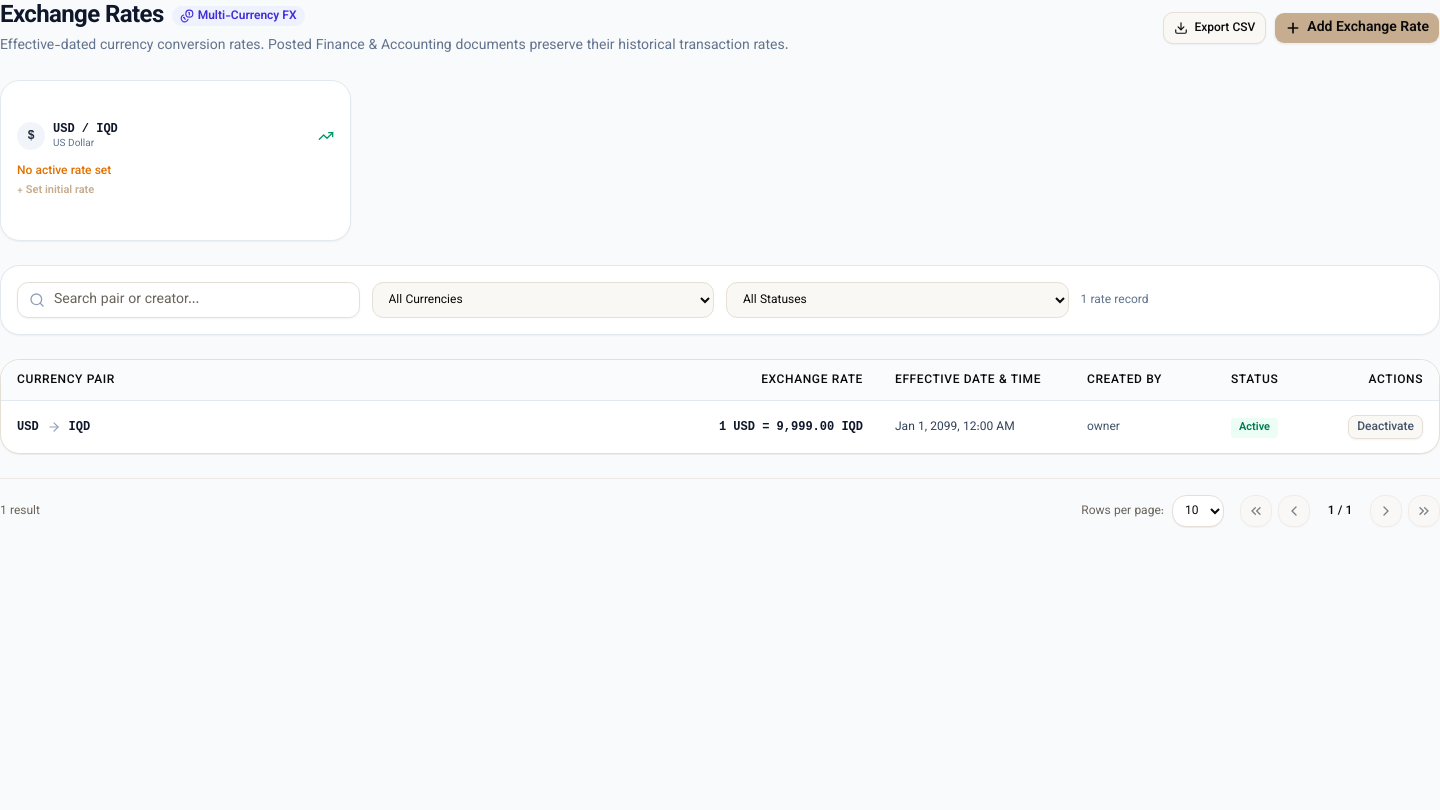
Scenario: exchange-rate management › guides an owner to enter USD per IQD direction without a prefilled real rate
Click the button "Add Exchange Rate" at point(1357, 28), box top-left (1274, 12), bottom-right (1439, 44)
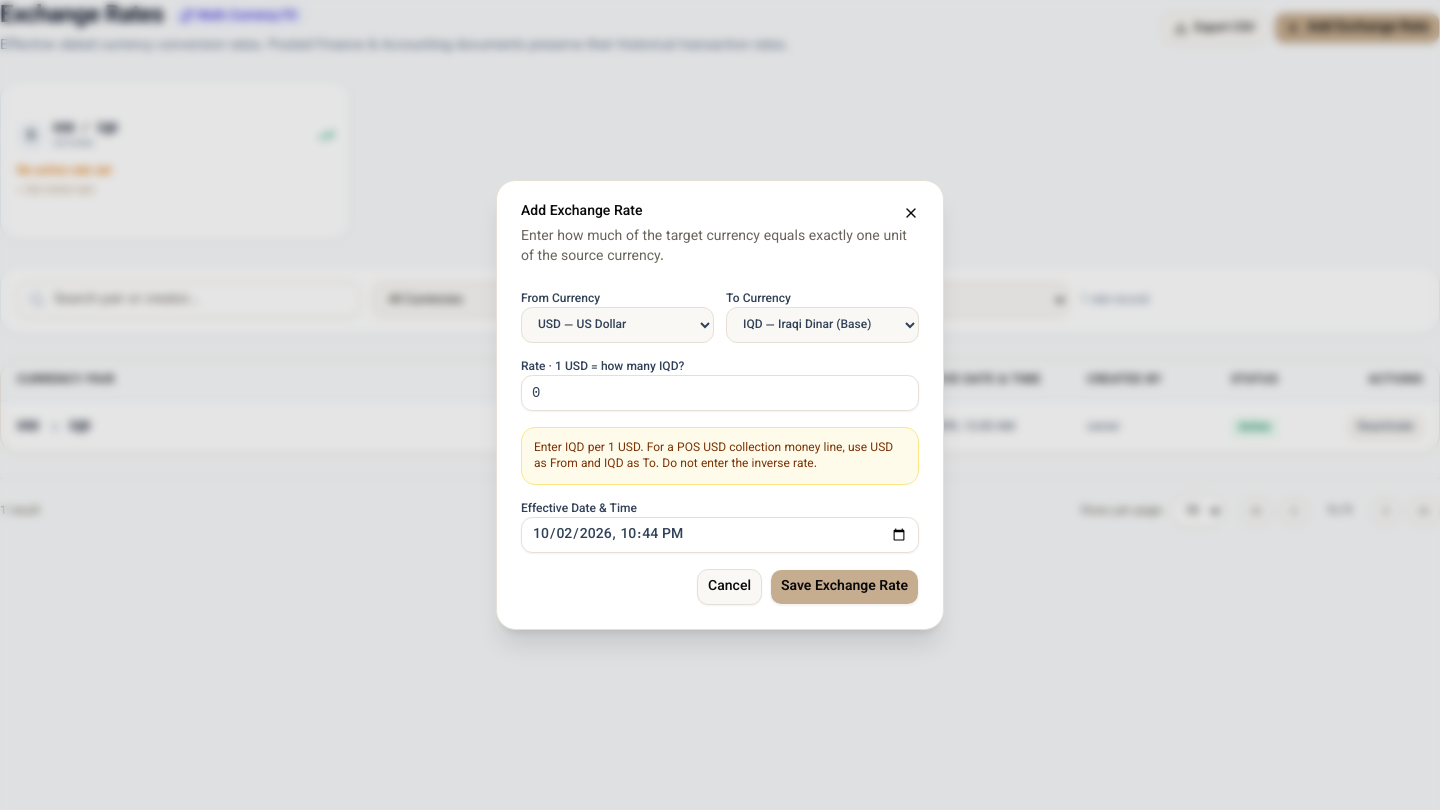
Result: the text "Do not enter the inverse rate" is shown at top-left (534, 439), bottom-right (893, 473)
Result: the number field with placeholder "Enter the business-approved rate" holds "0" at top-left (521, 375), bottom-right (919, 411)
